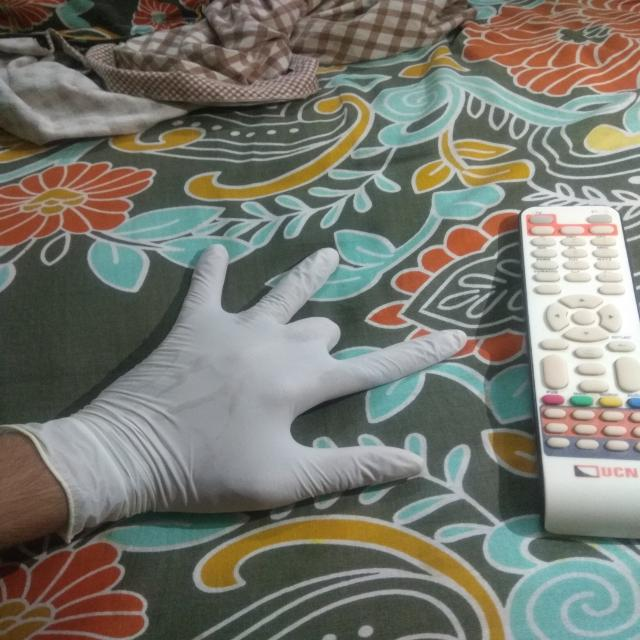Gloves: (17, 246, 464, 576)
